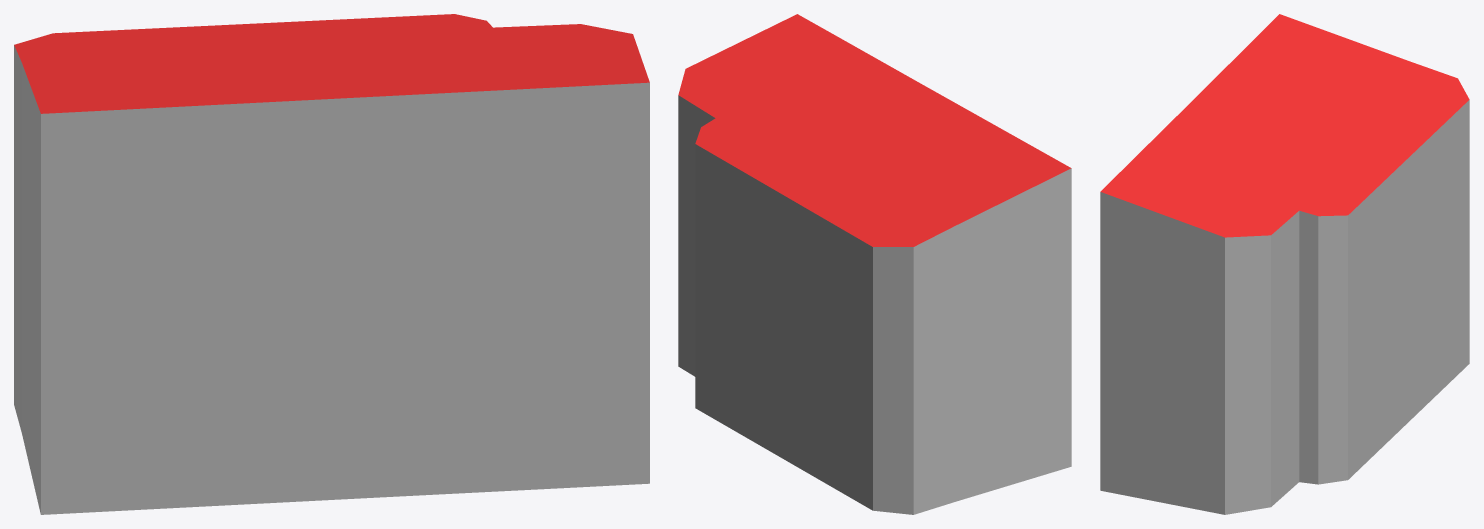
File: DEBY_LOD2_4908150.dae
3 renders of one model, left to right at view 1: azimuth 30°, elevation 25°; view 2: azimuth 150°, elevation 25°; view 3: azimuth 270°, elevation 25°, orthographic. The views are drawn at different scales.
Size of the model in its own units: 15.15 by 11.7 by 10.45.
